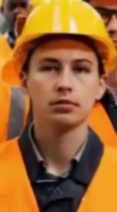Ibtihel: (1, 1, 117, 210)
